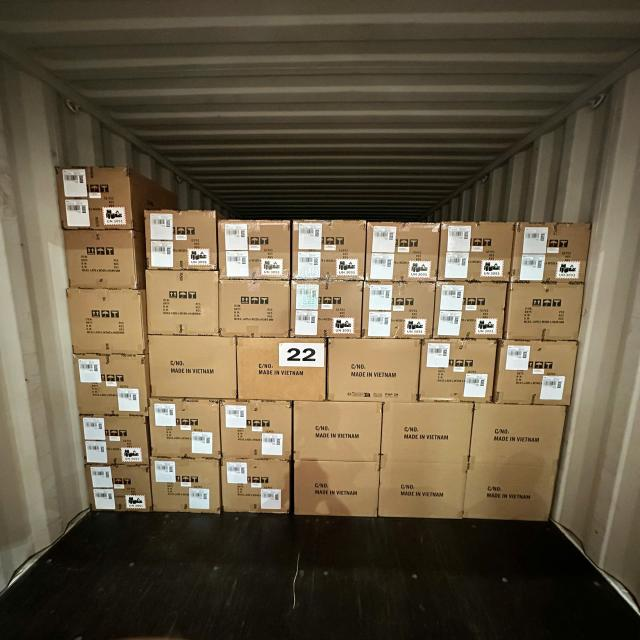Carton: (466, 401, 565, 467), (325, 337, 418, 403), (236, 336, 327, 402), (150, 334, 240, 400), (383, 400, 474, 464), (463, 465, 560, 525), (291, 399, 383, 462), (66, 288, 144, 358), (497, 340, 579, 406), (380, 460, 468, 520), (296, 459, 382, 518), (418, 336, 494, 402), (54, 164, 130, 228), (147, 270, 220, 336), (75, 353, 151, 415), (508, 285, 586, 344), (145, 208, 219, 270), (62, 231, 138, 291), (516, 225, 591, 285), (364, 223, 436, 285), (217, 221, 290, 282), (291, 222, 364, 283), (148, 399, 221, 459), (438, 224, 510, 284), (220, 400, 292, 460), (220, 278, 292, 337), (361, 281, 434, 339), (432, 284, 503, 343), (290, 280, 361, 339), (152, 458, 222, 517), (219, 458, 289, 514), (79, 414, 147, 464), (88, 466, 153, 513)
